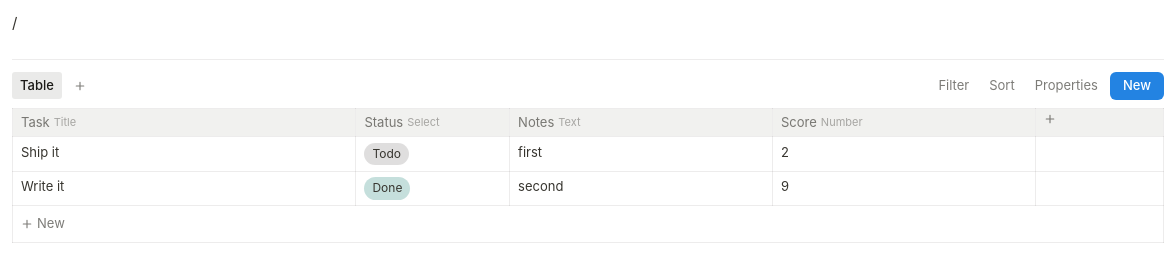
Test: the title column › draws the name it was given, and opens the menu under it
Expected: the table with test id "db-table" is shown, [12,108,1164,243]
Click the button "Task Title". click: (35, 122)
box: [13,108,355,136]
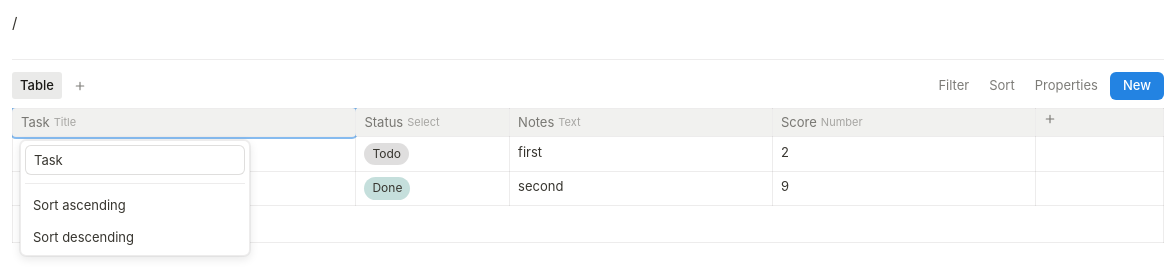
Expected: the menu named "Task column" is shown, [20,140,250,256]
